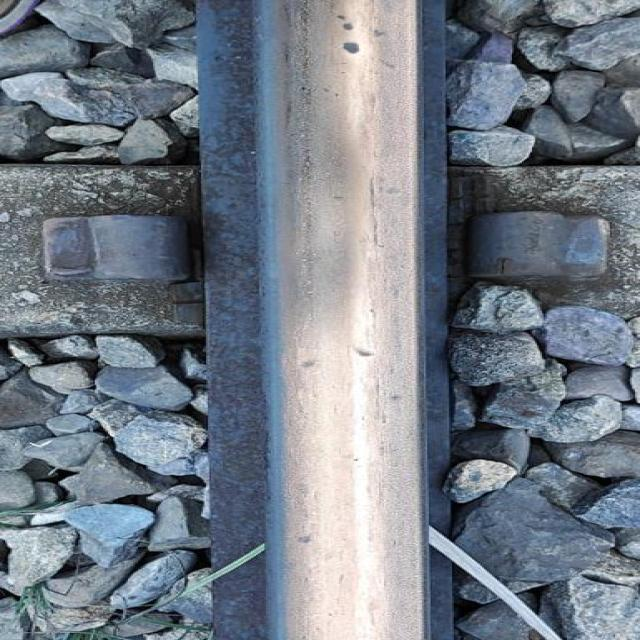Missing Fastener: (463, 181, 638, 317), (22, 192, 210, 311)
